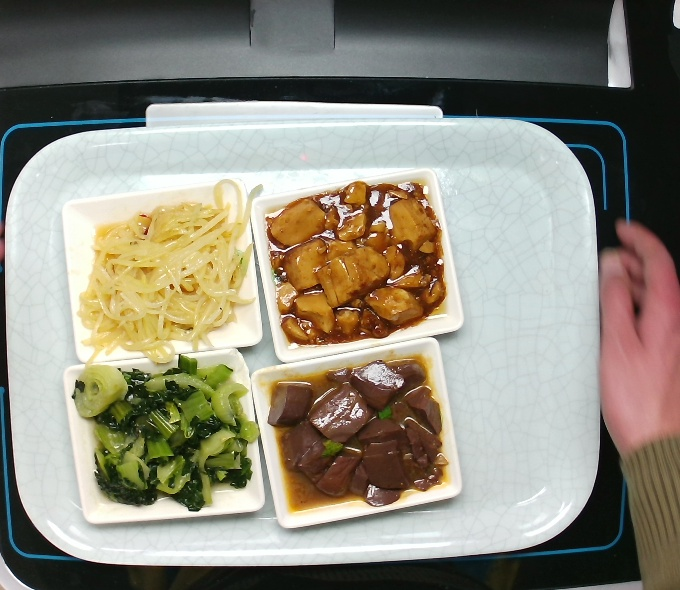wcq-MaPoDouFu: (266, 179, 449, 347)
wcq-NiuXue: (262, 353, 445, 521)
wcq-TuDouSi: (73, 189, 256, 357)
wcq-YouDongCai: (71, 349, 254, 517)
